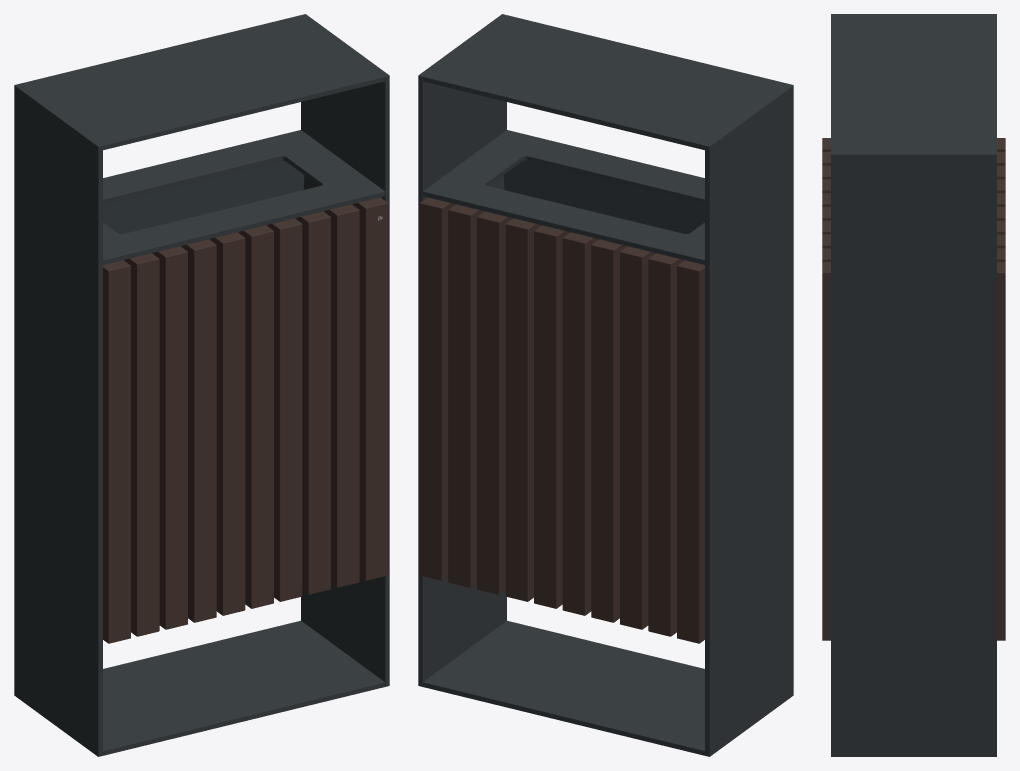
The model's file is G1_std.glb.
The picture shows the model from 3 angles, left to right: view 1: azimuth 30°, elevation 25°; view 2: azimuth 150°, elevation 25°; view 3: azimuth 270°, elevation 25°; orthographic projection.
Parts seen in each view (by area): view 1: G1_std; view 2: G1_std; view 3: G1_std.
Part boxes in pixels (x1,y1,x2,y2): G1_std: (14,14,389,756); G1_std: (418,14,793,756); G1_std: (822,14,1005,756).
Bounding box in the file's own units: 0.5001 × 1 × 0.276.
